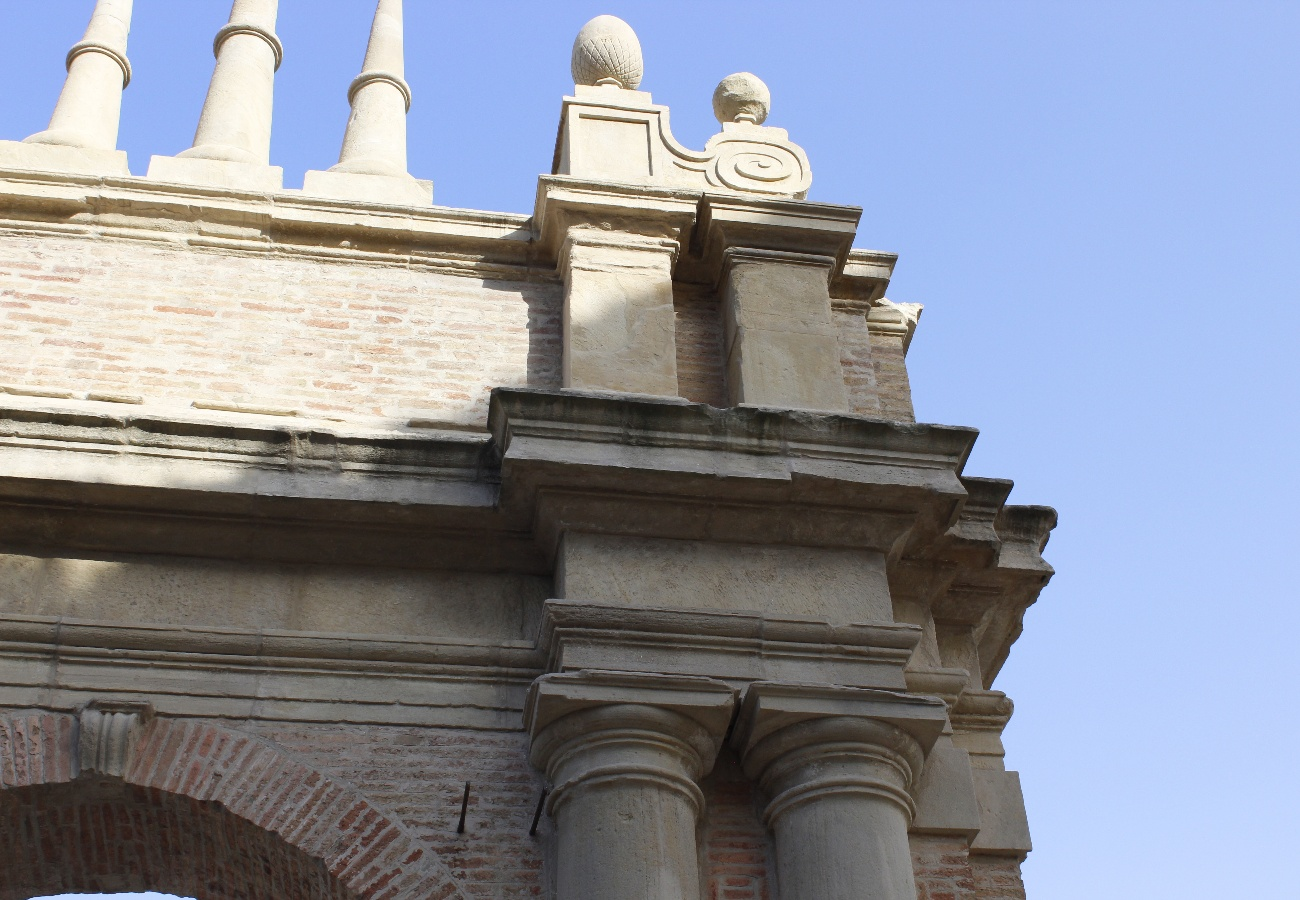Arco di Trionfo: (1, 2, 1060, 900)
